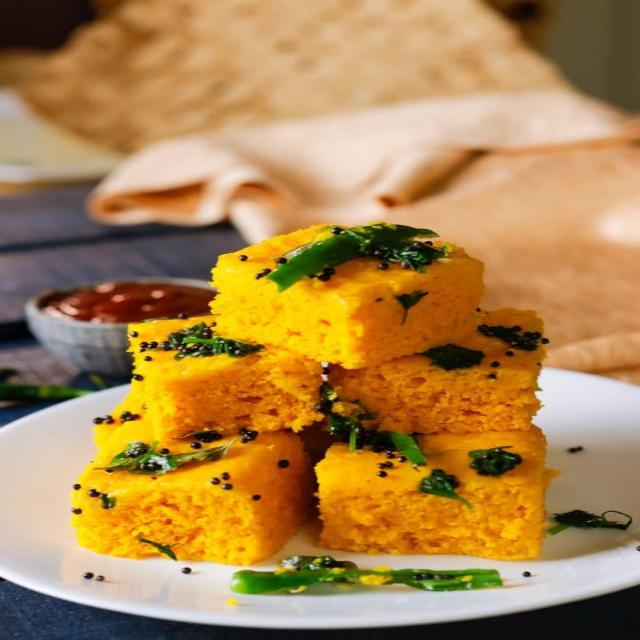dhokla: (82, 235, 544, 555)
